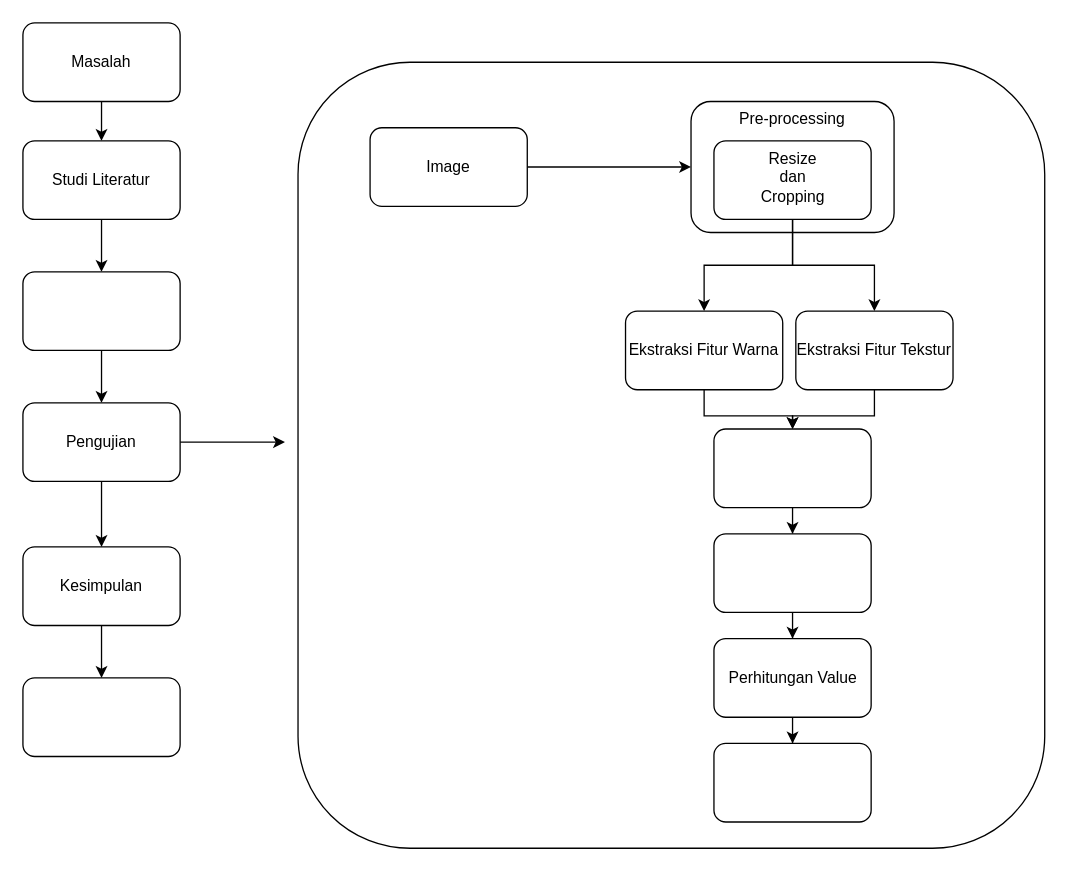
Some shapes in this 1068 by 871 pixel diagram are drawn without their labels. The centre of each missing label's shape, as x and y in pixels:
Cluster K-Means: point (792, 572)
Dataset: point (792, 468)
Hasil: point (792, 782)
Hipotesis: point (101, 310)
Publikasi: point (101, 717)
